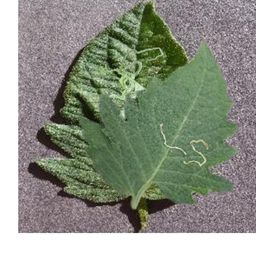liriomyza: (107, 47, 163, 106), (159, 120, 187, 156), (183, 138, 209, 166)
